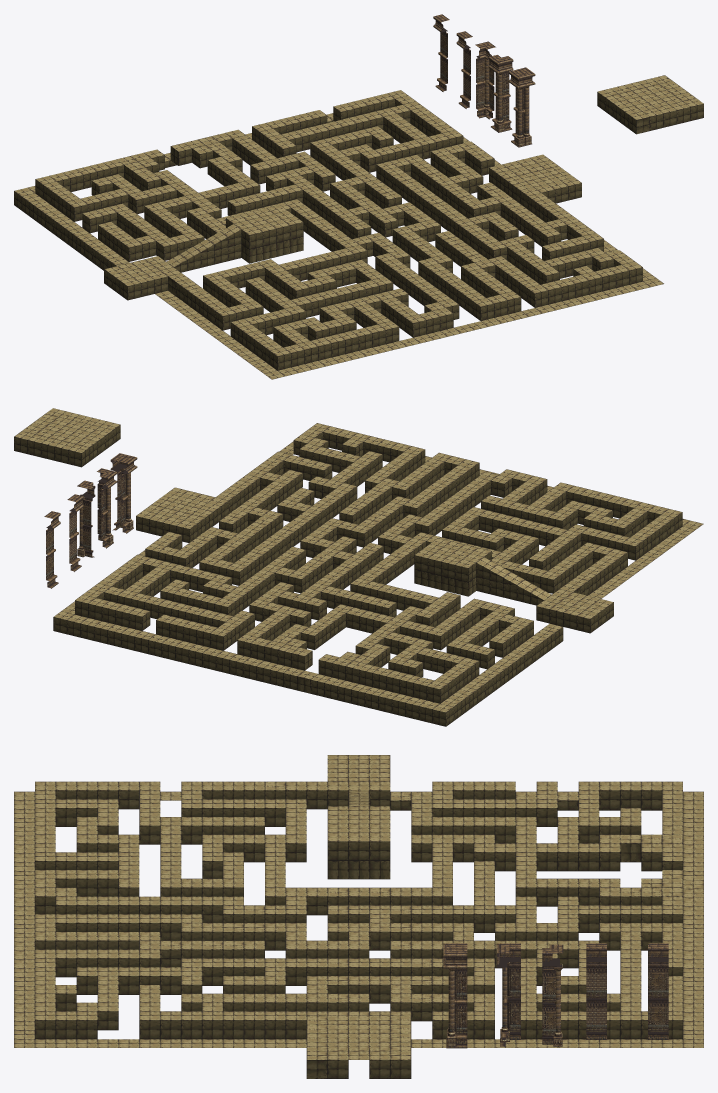
The model's file is EnvMdrMD_Ruins_A_Maze_A.FBX.
3 views of the same model, one above another, from view 1: azimuth 30°, elevation 25°; view 2: azimuth 150°, elevation 25°; view 3: azimuth 270°, elevation 25° (orthographic). The views are drawn at different scales.
Visible parts, largest first — view 1: EnvMdrMD_Ruins_A_Maze_A, EnvMdrMD_Ruins_A_Maze_Wall_CoOut_B, EnvMdrMD_Ruins_A_Maze_Wall_CoOut_A_2F, EnvMdrMD_Ruins_A_Maze_Wall_CoIn_A_2F, EnvMdrMD_Ruins_A_Maze_Wall_Deco_A_2F, EnvMdrMD_Ruins_A_Maze_Wall_Loop_2F; view 2: EnvMdrMD_Ruins_A_Maze_A, EnvMdrMD_Ruins_A_Maze_Wall_CoOut_B, EnvMdrMD_Ruins_A_Maze_Wall_CoOut_A_2F, EnvMdrMD_Ruins_A_Maze_Wall_CoIn_A_2F, EnvMdrMD_Ruins_A_Maze_Wall_Loop_2F, EnvMdrMD_Ruins_A_Maze_Wall_Deco_A_2F; view 3: EnvMdrMD_Ruins_A_Maze_A, EnvMdrMD_Ruins_A_Maze_Wall_CoOut_B, EnvMdrMD_Ruins_A_Maze_Wall_CoOut_A_2F, EnvMdrMD_Ruins_A_Maze_Wall_Deco_A_2F, EnvMdrMD_Ruins_A_Maze_Wall_Loop_2F, EnvMdrMD_Ruins_A_Maze_Wall_CoIn_A_2F.
Part boxes in pixels (x1,y1,x2,y2): EnvMdrMD_Ruins_A_Maze_A: (14, 75, 703, 379); EnvMdrMD_Ruins_A_Maze_Wall_CoOut_B: (508, 67, 535, 147); EnvMdrMD_Ruins_A_Maze_Wall_CoOut_A_2F: (488, 55, 513, 132); EnvMdrMD_Ruins_A_Maze_Wall_CoIn_A_2F: (475, 41, 495, 119); EnvMdrMD_Ruins_A_Maze_Wall_Deco_A_2F: (433, 14, 449, 91); EnvMdrMD_Ruins_A_Maze_Wall_Loop_2F: (456, 31, 472, 108); EnvMdrMD_Ruins_A_Maze_A: (14, 408, 703, 726); EnvMdrMD_Ruins_A_Maze_Wall_CoOut_B: (110, 453, 137, 533); EnvMdrMD_Ruins_A_Maze_Wall_CoOut_A_2F: (97, 468, 117, 548); EnvMdrMD_Ruins_A_Maze_Wall_CoIn_A_2F: (77, 480, 95, 557); EnvMdrMD_Ruins_A_Maze_Wall_Loop_2F: (67, 494, 83, 571); EnvMdrMD_Ruins_A_Maze_Wall_Deco_A_2F: (44, 511, 60, 588); EnvMdrMD_Ruins_A_Maze_A: (14, 755, 703, 1078); EnvMdrMD_Ruins_A_Maze_Wall_CoOut_B: (443, 943, 467, 1048); EnvMdrMD_Ruins_A_Maze_Wall_CoOut_A_2F: (496, 943, 520, 1046); EnvMdrMD_Ruins_A_Maze_Wall_Deco_A_2F: (648, 943, 668, 1039); EnvMdrMD_Ruins_A_Maze_Wall_Loop_2F: (586, 943, 606, 1039); EnvMdrMD_Ruins_A_Maze_Wall_CoIn_A_2F: (542, 944, 563, 1046).
Size of the model in its own units: 8400 by 1400 by 6600.
1 material, 1 textured.
